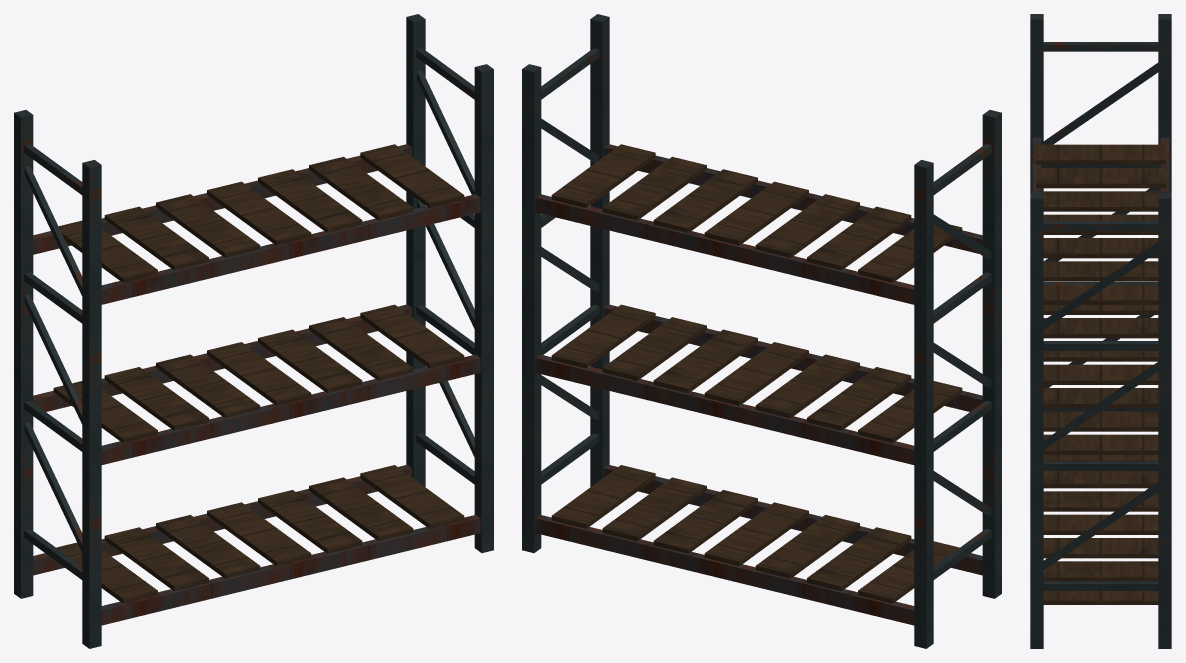
File: Prop_PalletRack.fbx
The picture shows the model from 3 angles, left to right: view 1: azimuth 30°, elevation 25°; view 2: azimuth 150°, elevation 25°; view 3: azimuth 270°, elevation 25°; orthographic projection. The views are drawn at different scales.
Parts seen in each view (by area): view 1: Prop_PalletRack; view 2: Prop_PalletRack; view 3: Prop_PalletRack.
Boxes of the visible parts, x1,y1,x2,y2 form: Prop_PalletRack: (14,14,493,648); Prop_PalletRack: (522,14,1001,648); Prop_PalletRack: (1030,14,1171,648).
Bounding box in the file's own units: 3.96 × 4.5 × 1.28.
